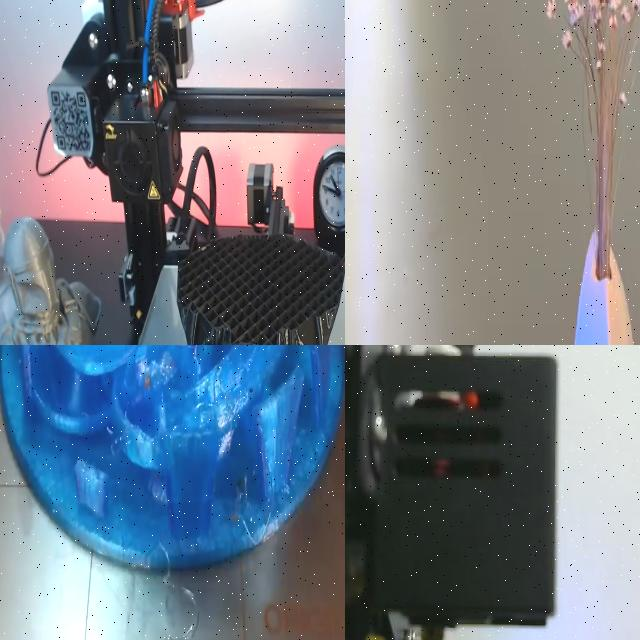spaghetti: (136, 532, 206, 640), (231, 500, 293, 582), (130, 351, 184, 402), (193, 359, 227, 425), (98, 419, 134, 465)
